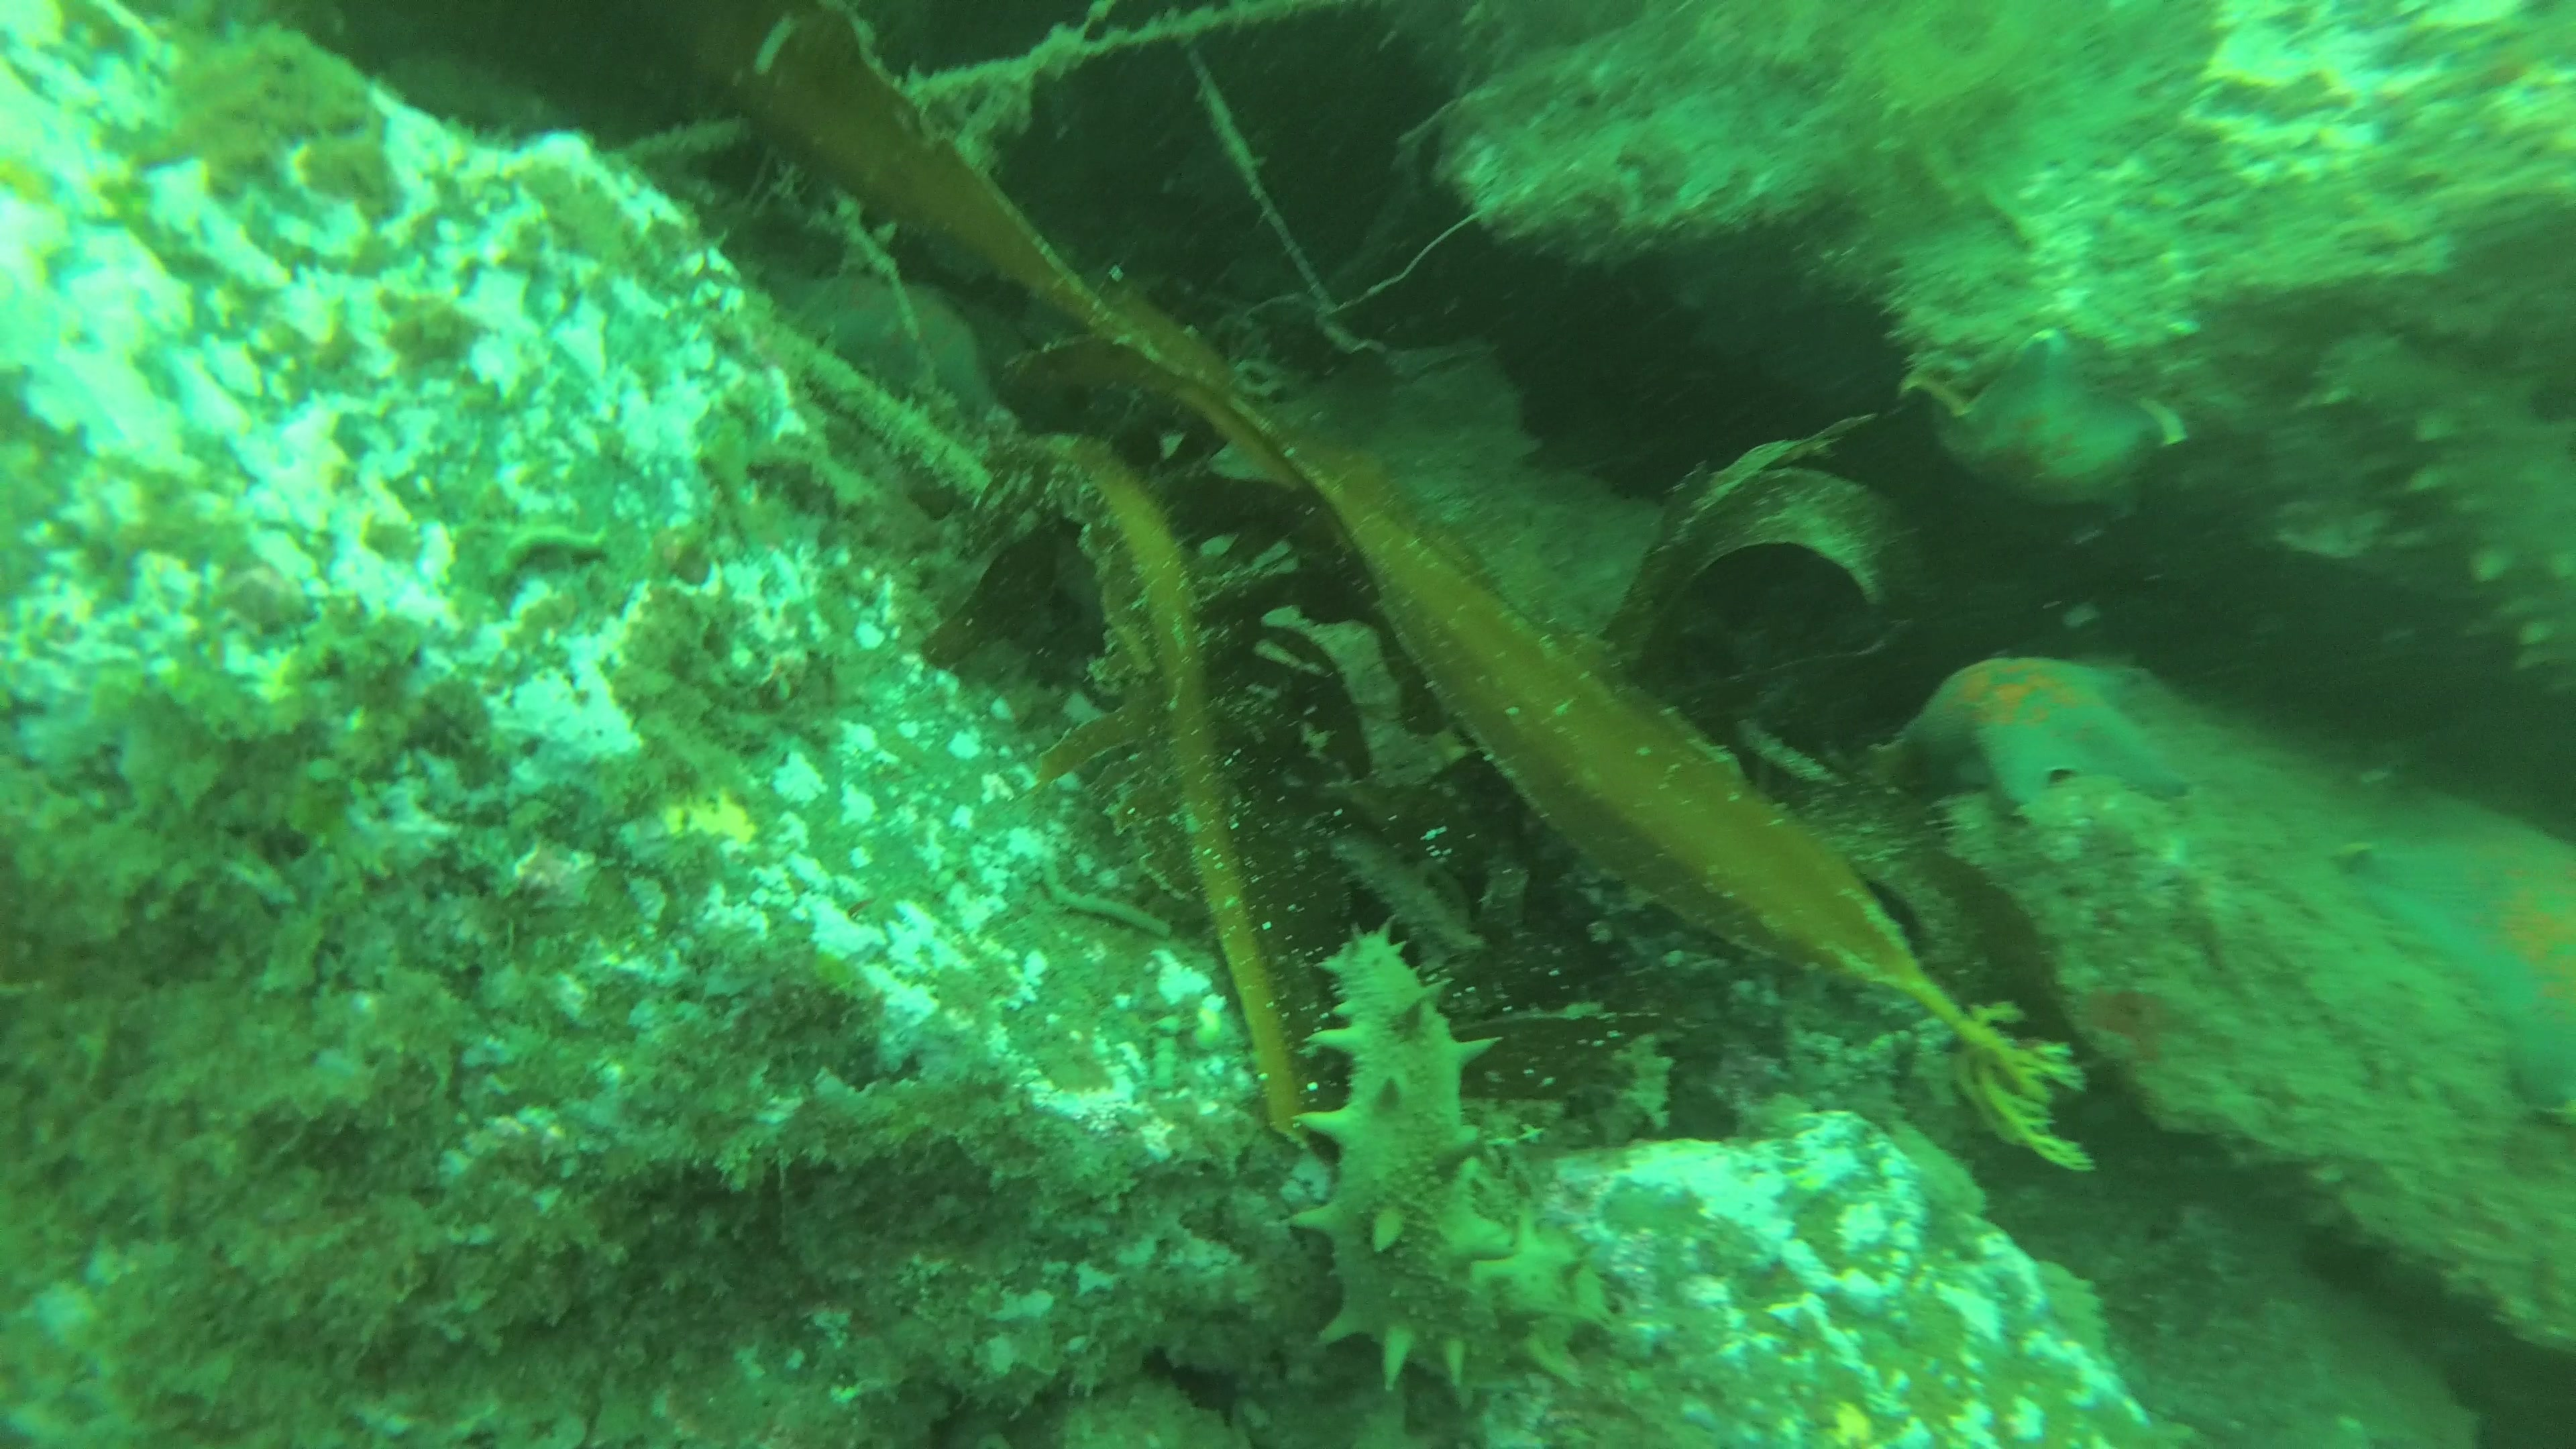holothurian: (1293, 915, 1621, 1396), (2312, 320, 2576, 697)
starfish: (2328, 830, 2576, 1122), (768, 241, 1049, 435), (1914, 329, 2190, 525), (1881, 653, 2189, 823)
